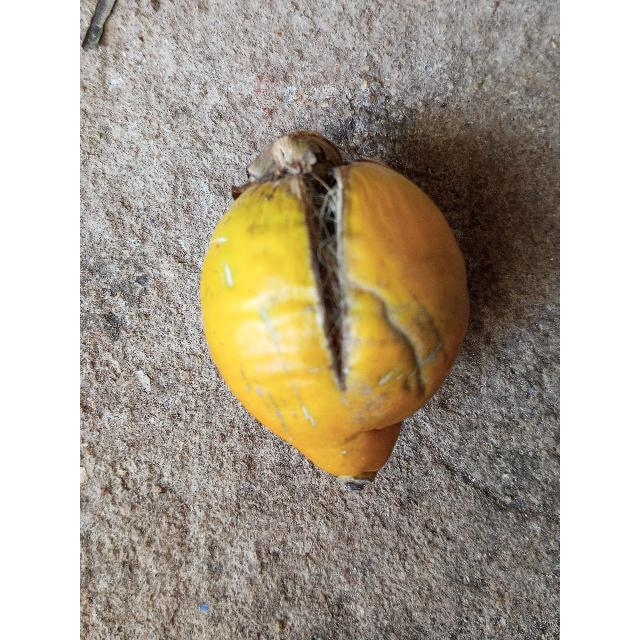damaged: (199, 134, 470, 482)
